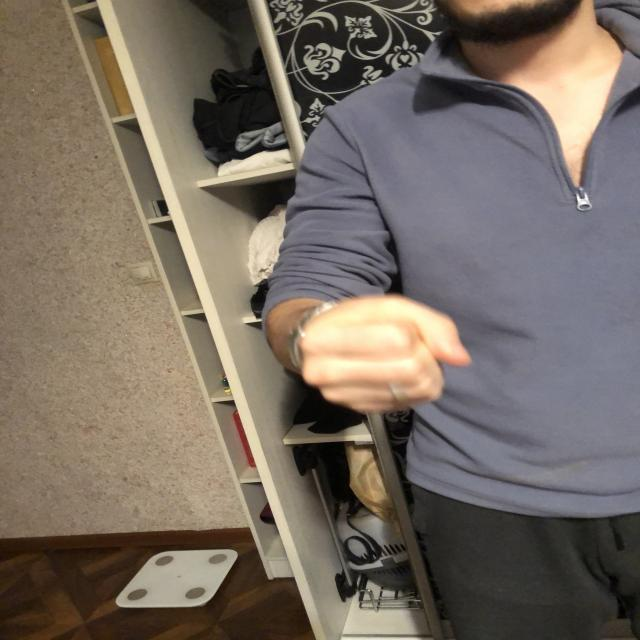rock: (297, 302, 466, 410)
